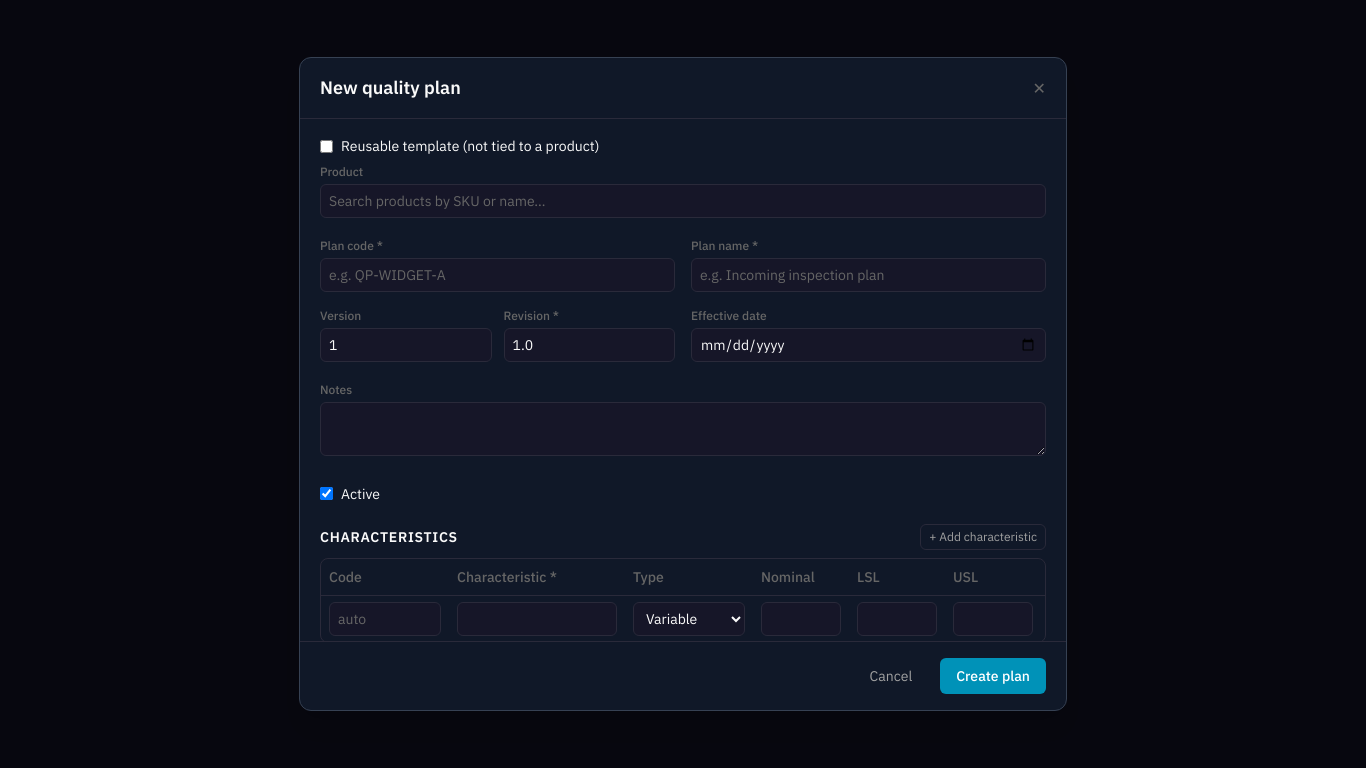
Scenario: QualityPlanEditor › auto-derives the characteristic code from its name on blur
The width and height of the screenshot is (1366, 768).
Type "Bore diameter" into the field named "Characteristic name" at (537, 619), box [457, 602, 617, 636]
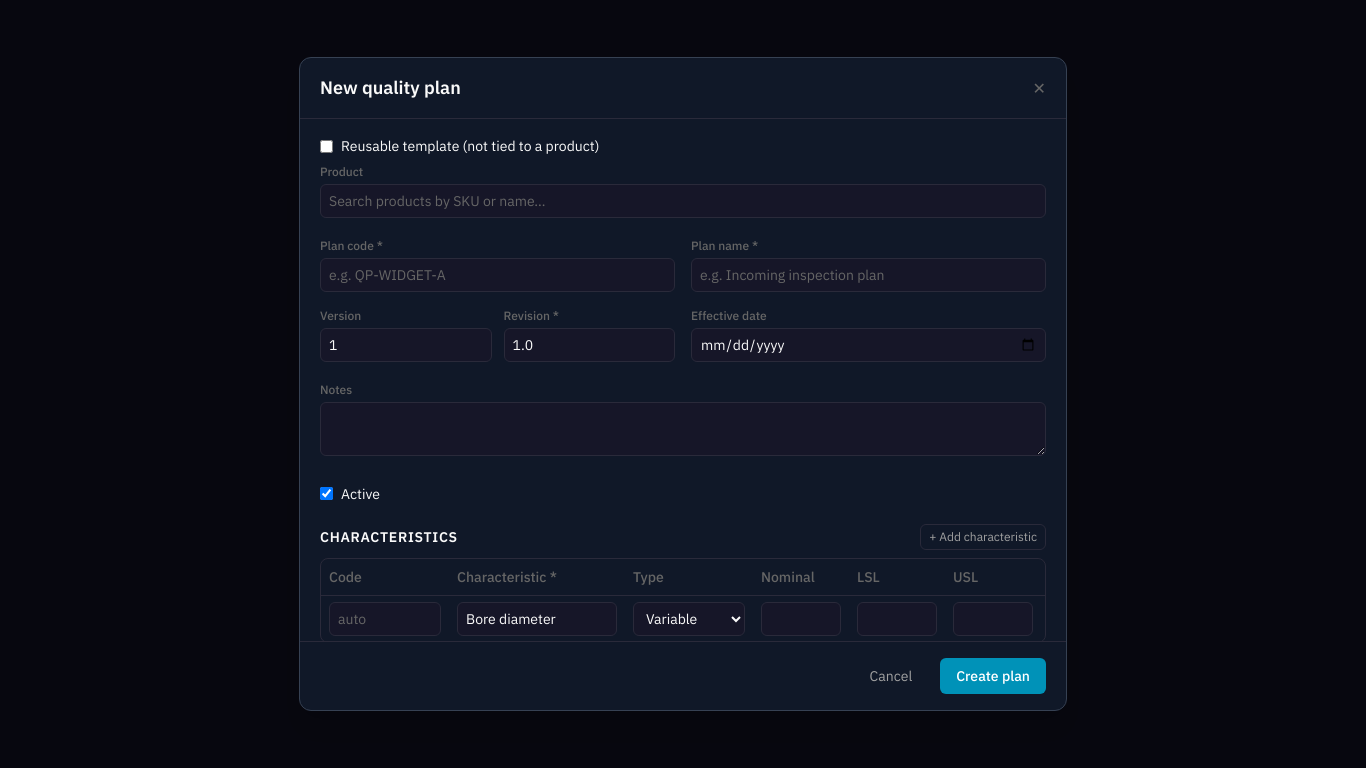
Leave the field named "Characteristic name", box [457, 602, 617, 636]
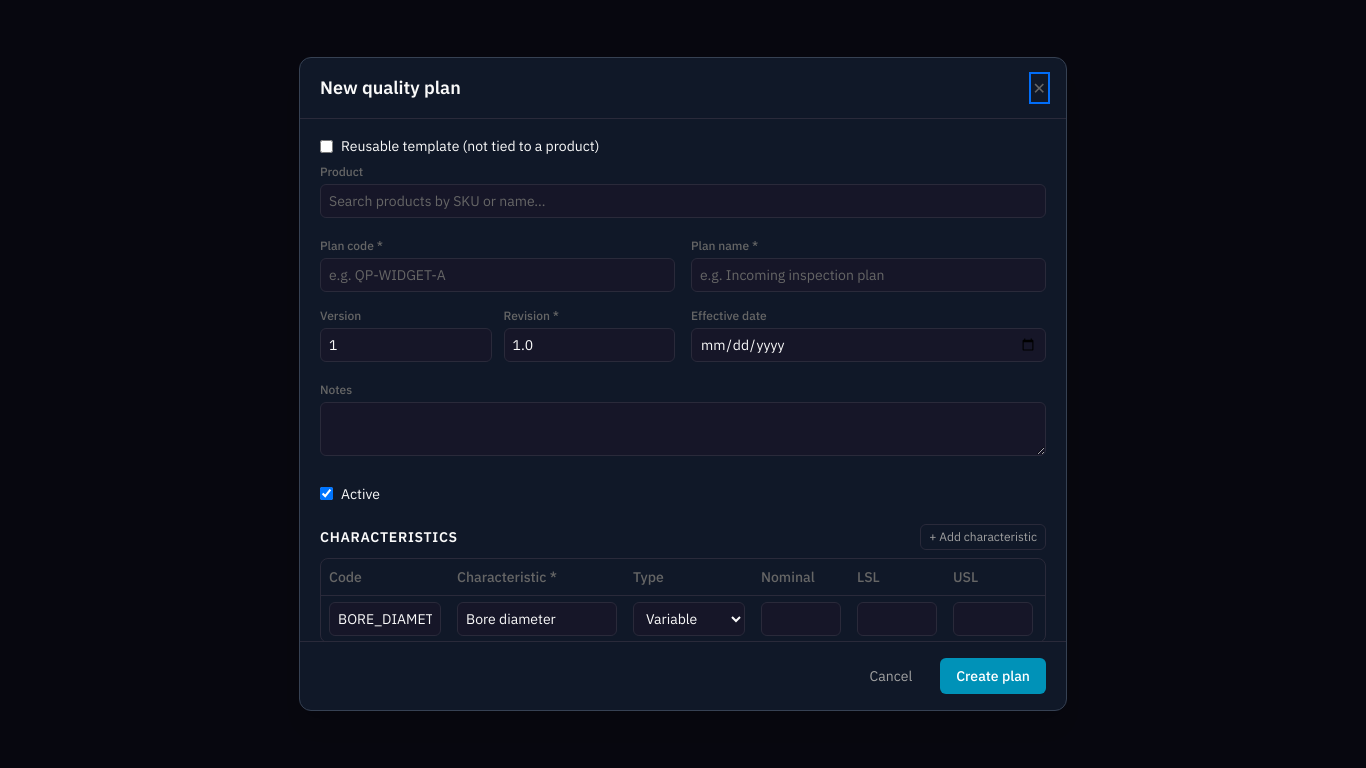
Check: the field named "Characteristic code" holds "BORE_DIAMETER", box [329, 602, 441, 636]
